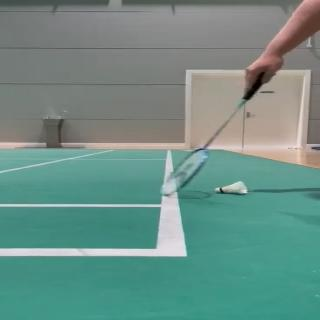Shuttle: (216, 181, 247, 194)
